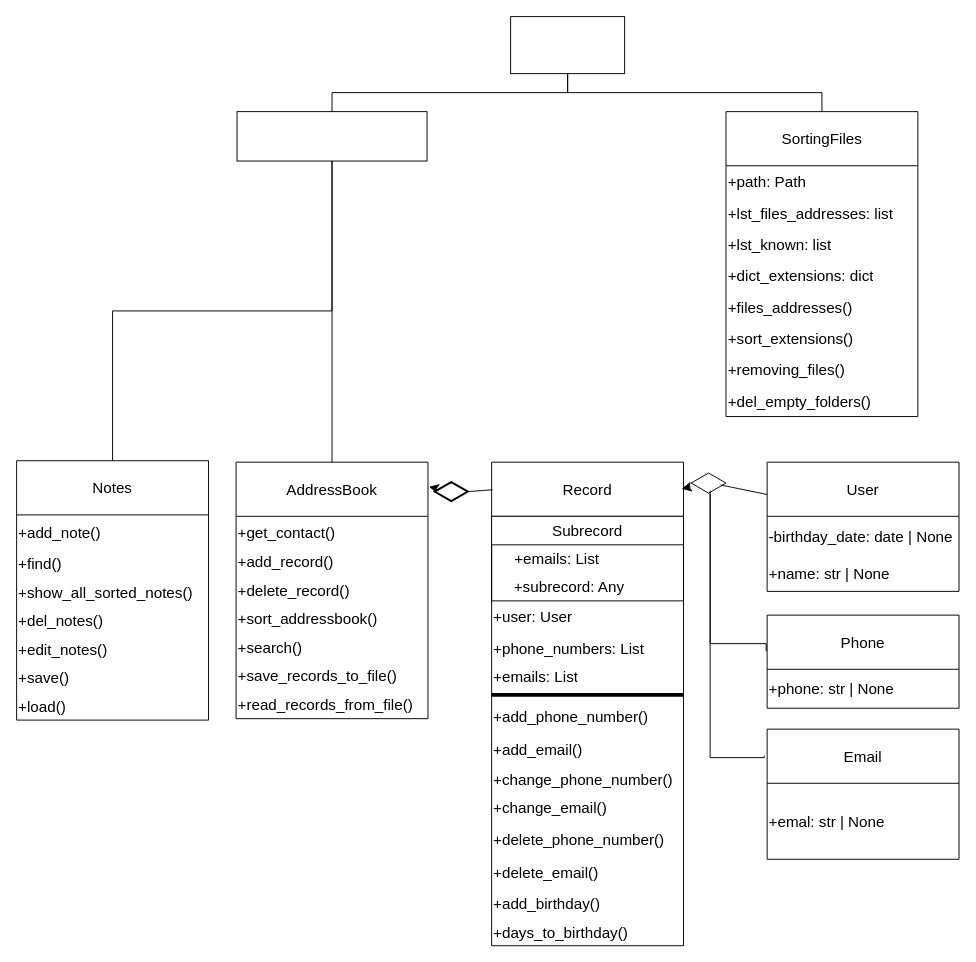
Some shapes in this 976 by 962 pixel diagram are drawn without their labels. Here are the shapes that lost their labels. From the top down, the centre of each, then its label:
At (x=567, y=45): "BOT".
At (x=331, y=136): "UserDict".
